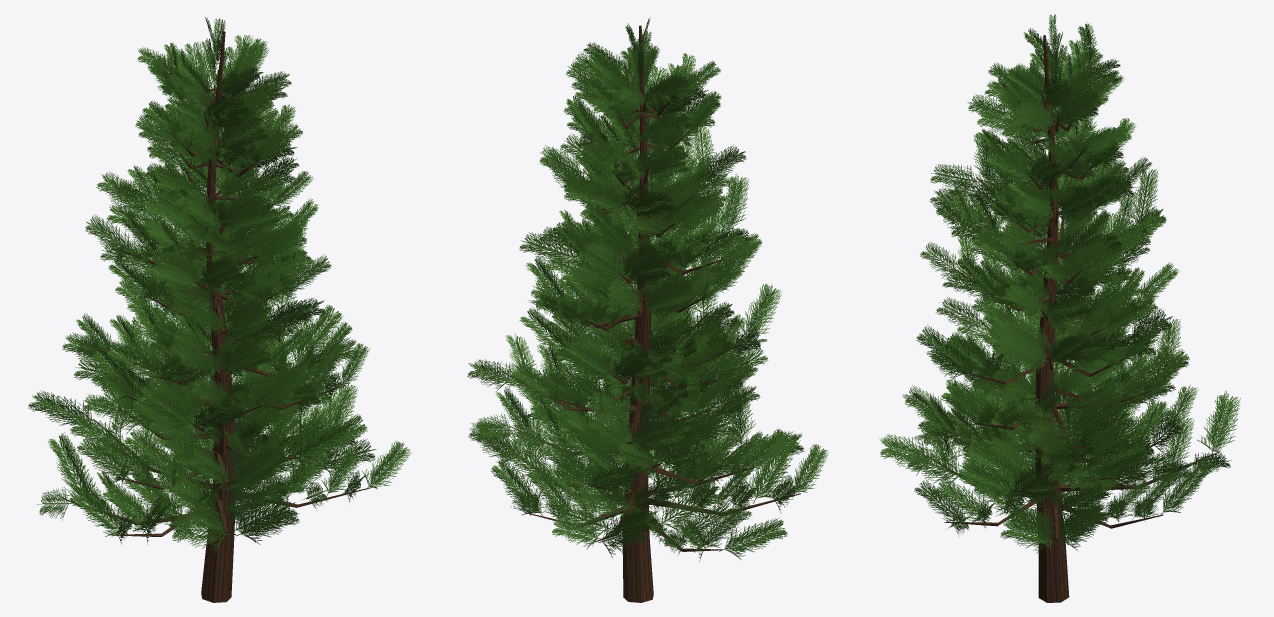
Rendered from Pine_LOD1.fbx.
3 views of the same model, side by side, from view 1: azimuth 30°, elevation 25°; view 2: azimuth 150°, elevation 25°; view 3: azimuth 270°, elevation 25° (orthographic).
Parts seen in each view (by area): view 1: Pine_LOD1; view 2: Pine_LOD1; view 3: Pine_LOD1.
Boxes of the visible parts, left/top/right/bottom form: Pine_LOD1: left=28, top=17, right=411, bottom=602; Pine_LOD1: left=467, top=17, right=829, bottom=602; Pine_LOD1: left=880, top=14, right=1240, bottom=602.
Bounding box in the file's own units: 624 × 1028 × 627.
2 materials, 2 textured.
